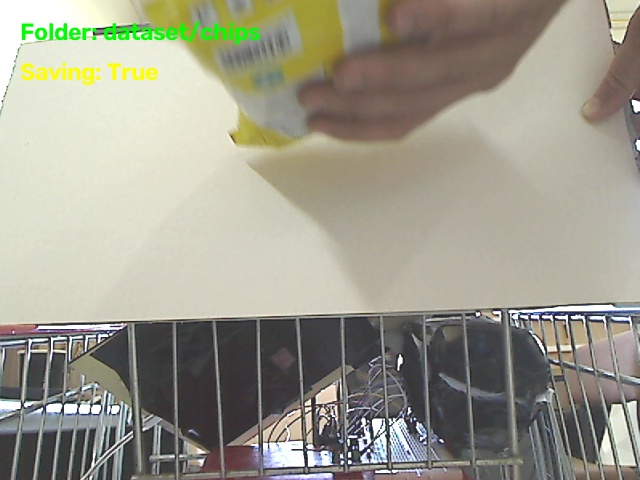chips: (143, 0, 393, 145)
